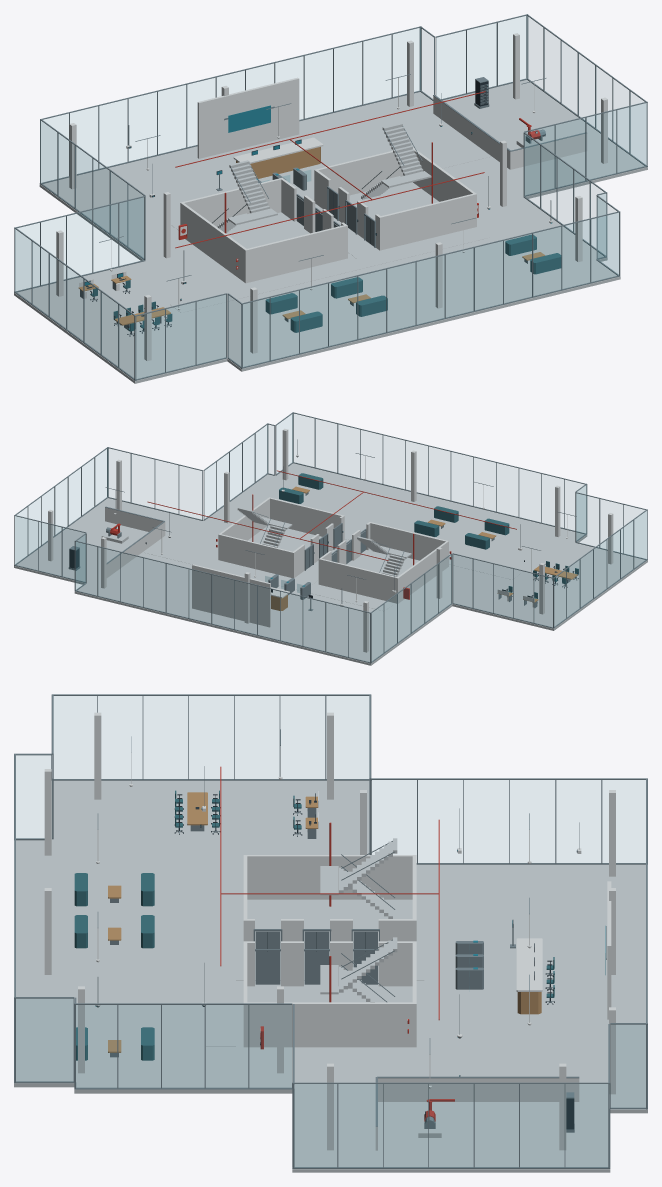
The picture shows the model from 3 angles, top to bottom: view 1: azimuth 30°, elevation 25°; view 2: azimuth 150°, elevation 25°; view 3: azimuth 270°, elevation 25°; orthographic projection. The views are drawn at different scales.
Visible parts, largest first — view 1: T1_F01_SLAB, T1_F01_WHITE, T1_F01_GLASS_S, T1_F01_GLASS_N, T1_F01_STEEL, T1_F01_GLASS_W, T1_F01_GLASS_E, T1_F01_FABRIC, T1_F01_WOOD, T1_F01_RED, T1_F01_SCREEN, T1_F01_DARK; view 2: T1_F01_SLAB, T1_F01_WHITE, T1_F01_GLASS_N, T1_F01_GLASS_S, T1_F01_STEEL, T1_F01_GLASS_W, T1_F01_GLASS_E, T1_F01_FABRIC, T1_F01_RED, T1_F01_WOOD, T1_F01_DARK; view 3: T1_F01_SLAB, T1_F01_GLASS_E, T1_F01_GLASS_W, T1_F01_WHITE, T1_F01_STEEL, T1_F01_FABRIC, T1_F01_WOOD, T1_F01_RED, T1_F01_DARK.
Part boxes in pixels (left/top/right/bottom): T1_F01_SLAB: left=14, top=80, right=647, bottom=383; T1_F01_WHITE: left=56, top=33, right=607, bottom=361; T1_F01_GLASS_S: left=137, top=104, right=645, bottom=377; T1_F01_GLASS_N: left=18, top=17, right=526, bottom=274; T1_F01_STEEL: left=14, top=14, right=647, bottom=380; T1_F01_GLASS_W: left=15, top=121, right=240, bottom=377; T1_F01_GLASS_E: left=421, top=17, right=642, bottom=255; T1_F01_FABRIC: left=90, top=234, right=561, bottom=332; T1_F01_WOOD: left=78, top=147, right=544, bottom=325; T1_F01_RED: left=175, top=91, right=540, bottom=269; T1_F01_SCREEN: left=85, top=85, right=551, bottom=299; T1_F01_DARK: left=84, top=80, right=550, bottom=336; T1_F01_SLAB: left=14, top=463, right=647, bottom=665; T1_F01_WHITE: left=48, top=428, right=613, bottom=652; T1_F01_GLASS_N: left=15, top=517, right=552, bottom=661; T1_F01_GLASS_S: left=108, top=414, right=642, bottom=545; T1_F01_STEEL: left=14, top=412, right=647, bottom=663; T1_F01_GLASS_W: left=372, top=486, right=646, bottom=660; T1_F01_GLASS_E: left=18, top=414, right=292, bottom=541; T1_F01_FABRIC: left=279, top=473, right=578, bottom=598; T1_F01_RED: left=110, top=470, right=516, bottom=599; T1_F01_WOOD: left=271, top=486, right=577, bottom=610; T1_F01_DARK: left=69, top=456, right=578, bottom=602; T1_F01_SLAB: left=14, top=780, right=647, bottom=1172; T1_F01_GLASS_E: left=16, top=999, right=645, bottom=1166; T1_F01_GLASS_W: left=16, top=696, right=645, bottom=862; T1_F01_WHITE: left=44, top=712, right=615, bottom=1150; T1_F01_STEEL: left=14, top=694, right=647, bottom=1168; T1_F01_FABRIC: left=74, top=790, right=554, bottom=1060; T1_F01_WOOD: left=108, top=792, right=541, bottom=1052; T1_F01_RED: left=220, top=766, right=454, bottom=1121; T1_F01_DARK: left=96, top=793, right=577, bottom=1129.
Size of the model in its own units: 55.47 by 6 by 38.19.
